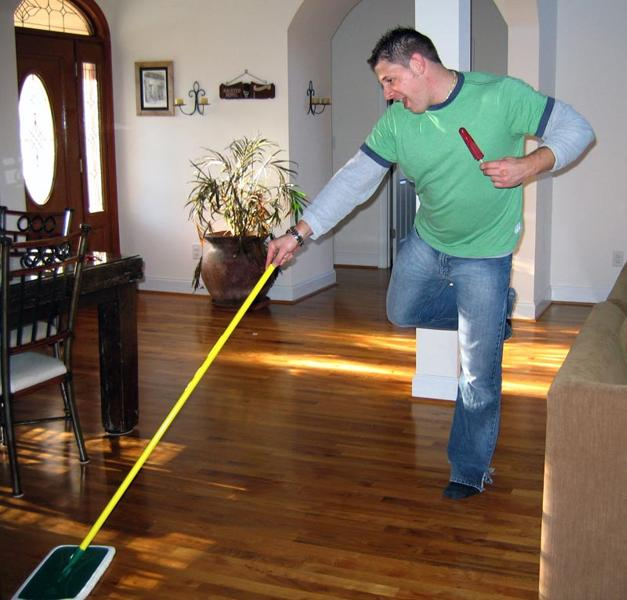person: (262, 27, 596, 503)
